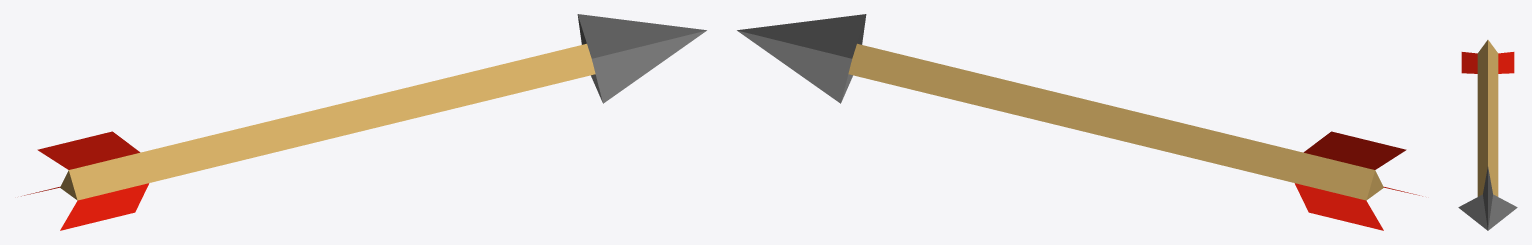
Rendered from arrow.dae.
3 views of the same model, side by side, from view 1: azimuth 30°, elevation 25°; view 2: azimuth 150°, elevation 25°; view 3: azimuth 270°, elevation 25° (orthographic). The views are drawn at different scales.
Parts seen in each view (by area): view 1: Model; view 2: Model; view 3: Model.
Boxes of the visible parts, x1,y1,x2,y2 form: Model: (21, 14, 706, 230); Model: (737, 14, 1422, 230); Model: (1458, 40, 1517, 230).
Bounding box in the file's own units: 68.85 × 9.09 × 6.98.
